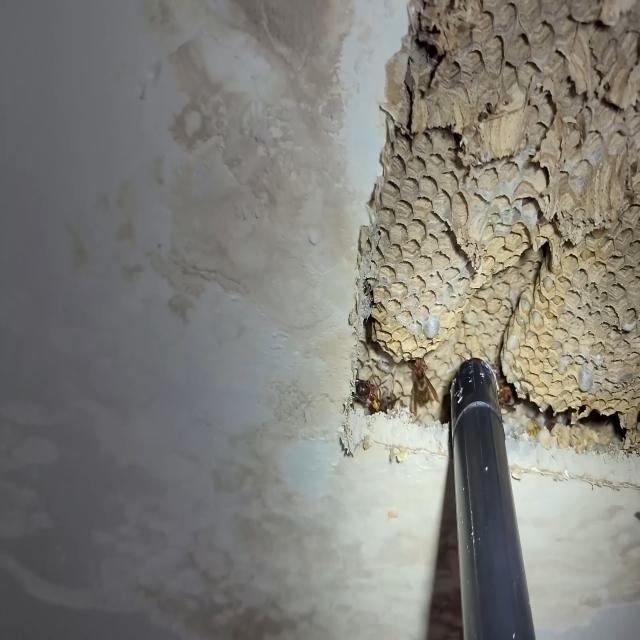Hornets: (406, 346, 440, 416), (352, 370, 390, 419), (496, 379, 519, 417)
